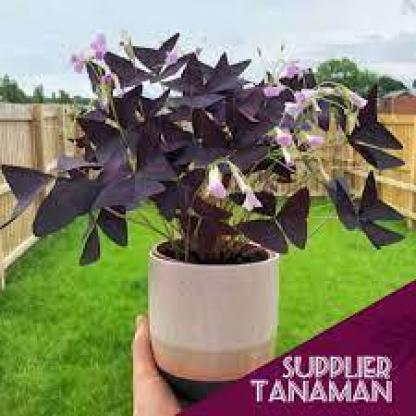Kupu-Kupu: (58, 131, 171, 238), (88, 32, 184, 99), (171, 49, 245, 114), (352, 86, 402, 169), (242, 197, 316, 251), (334, 190, 415, 238)
